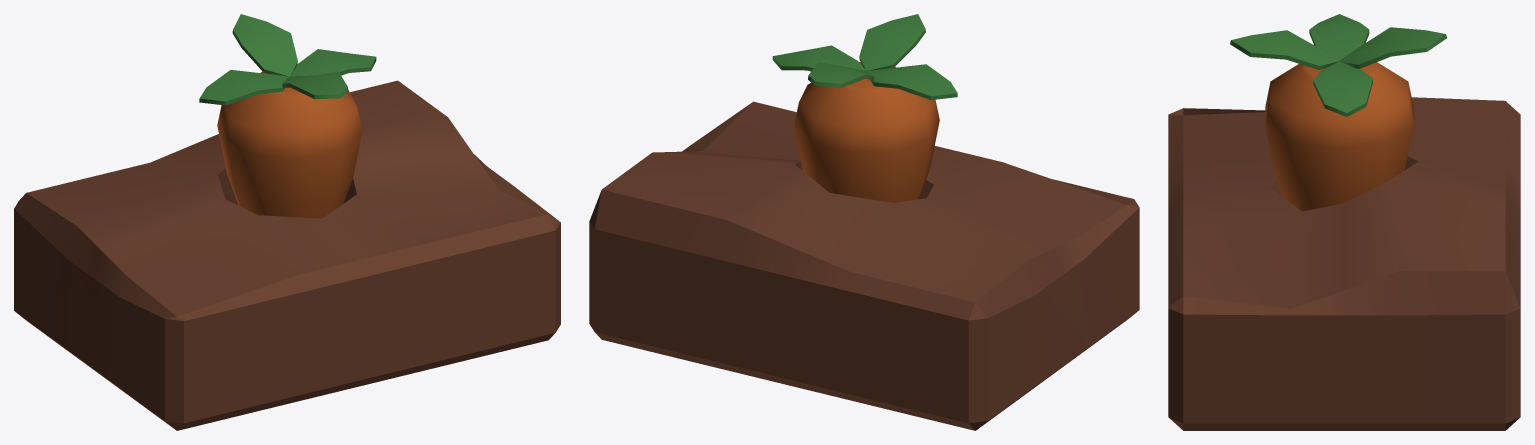
The model's file is Carrot_with_base.fbx.
3 renders of one model, left to right at view 1: azimuth 30°, elevation 25°; view 2: azimuth 150°, elevation 25°; view 3: azimuth 270°, elevation 25°, orthographic. The views are drawn at different scales.
Visible parts, largest first — view 1: Dirt, Carrot1; view 2: Dirt, Carrot1; view 3: Dirt, Carrot1.
Boxes of the visible parts, left/top/right/bottom form: Dirt: left=14, top=80, right=560, bottom=430; Carrot1: left=199, top=14, right=376, bottom=218; Dirt: left=589, top=101, right=1139, bottom=430; Carrot1: left=772, top=14, right=957, bottom=202; Dirt: left=1168, top=97, right=1520, bottom=430; Carrot1: left=1230, top=14, right=1446, bottom=211.
Size of the model in its own units: 3.67 by 2.48 by 2.63.
